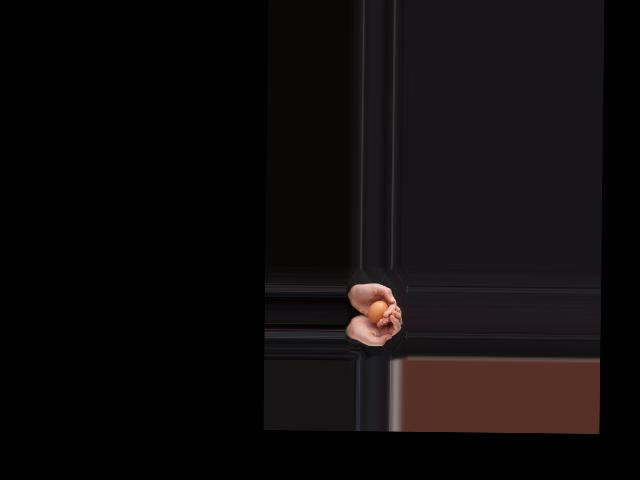egg: (367, 300, 387, 324)
